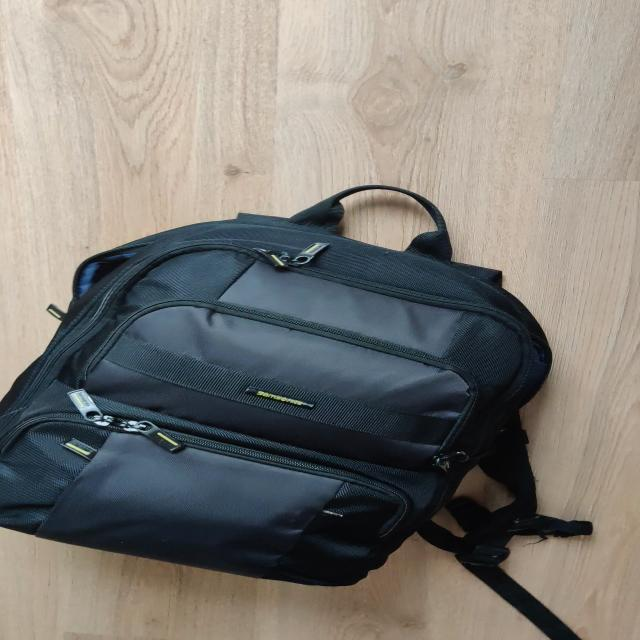backpack: (0, 176, 574, 595)
